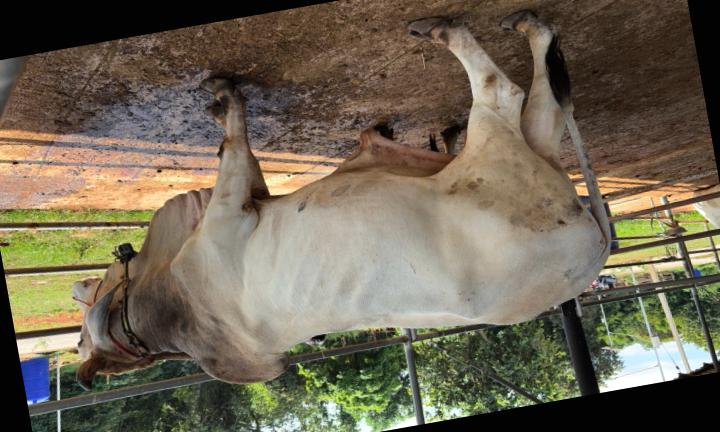Brahman: (74, 11, 610, 390)
